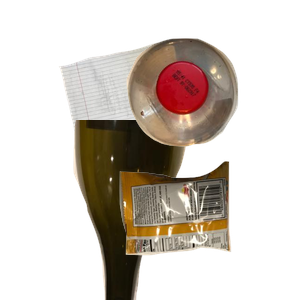glass: (71, 120, 254, 300)
paper: (56, 40, 229, 166)
plastic: (124, 36, 300, 175)
trash: (117, 159, 300, 300)
